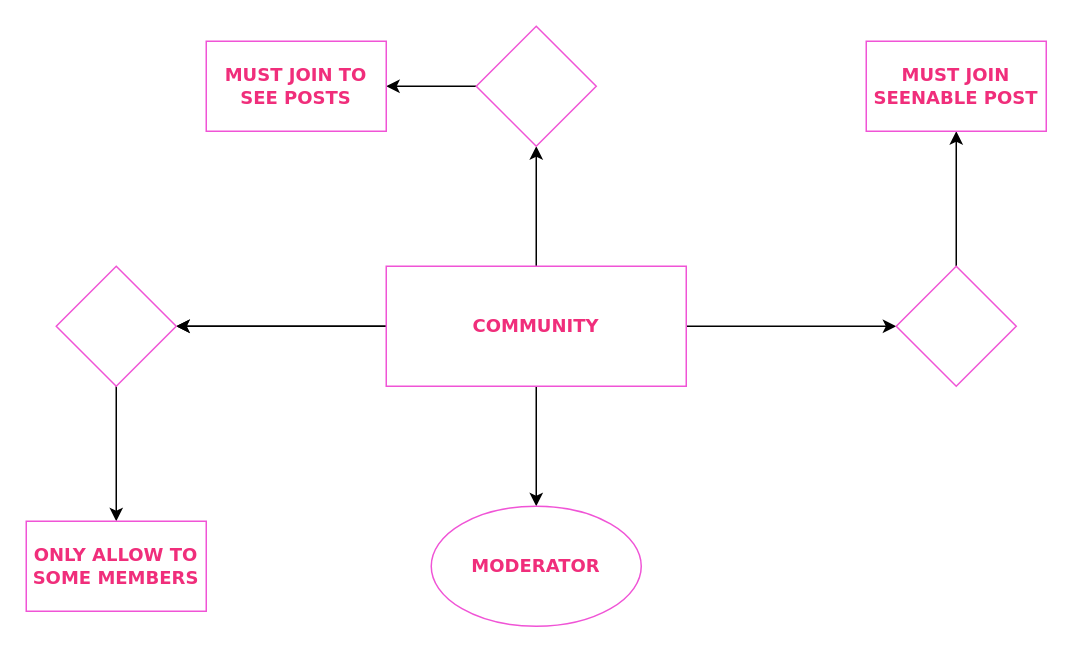
Image size: 1073x653. Some labels were removed from this diagram. Here are the shapes that lost their labels. From the top down, the centre of each, then its label:
At [535,85]: "PRIVATE".
At [115,325]: "RESTRICTED".
At [955,325]: "PUBLIC".
